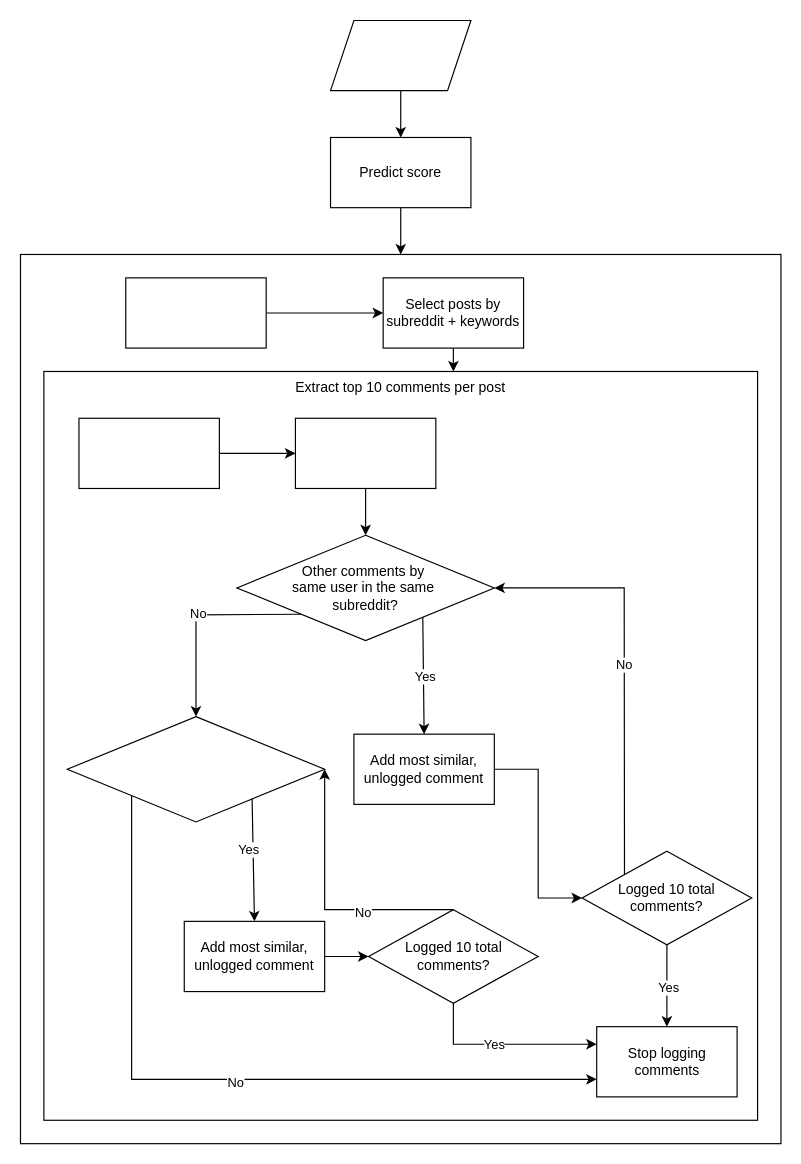
This 801x1164 diagram has some shape labels left out. Each missing label, with the box of its shape:
Extract keywords: (125, 277, 266, 348)
Log comment: (294, 417, 436, 488)
Log user: (78, 417, 219, 488)
Other comments by same user in the different subreddits?: (66, 715, 325, 822)
Reddit post + submission: (329, 19, 471, 91)
